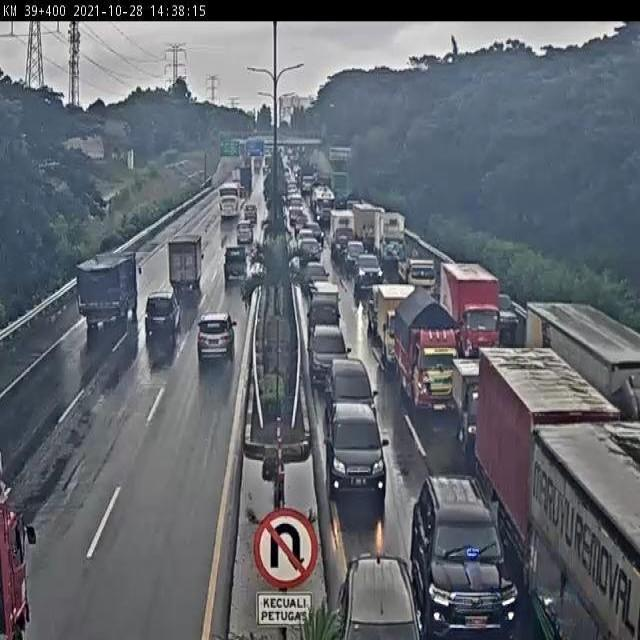ARABA: (416, 467, 510, 637), (344, 540, 417, 640), (325, 397, 390, 496), (326, 351, 378, 425), (309, 317, 353, 384), (193, 310, 239, 366), (137, 296, 177, 355), (305, 298, 350, 346), (355, 252, 383, 287), (233, 219, 259, 253), (239, 200, 263, 236)
KAMYONET: (454, 358, 509, 446), (221, 246, 253, 294)
OTOBUS: (214, 177, 244, 224)
TIR: (479, 345, 640, 640), (524, 300, 640, 431), (399, 290, 464, 406), (439, 257, 505, 363), (65, 249, 138, 339), (379, 287, 422, 373), (159, 233, 207, 306), (396, 248, 435, 295)
